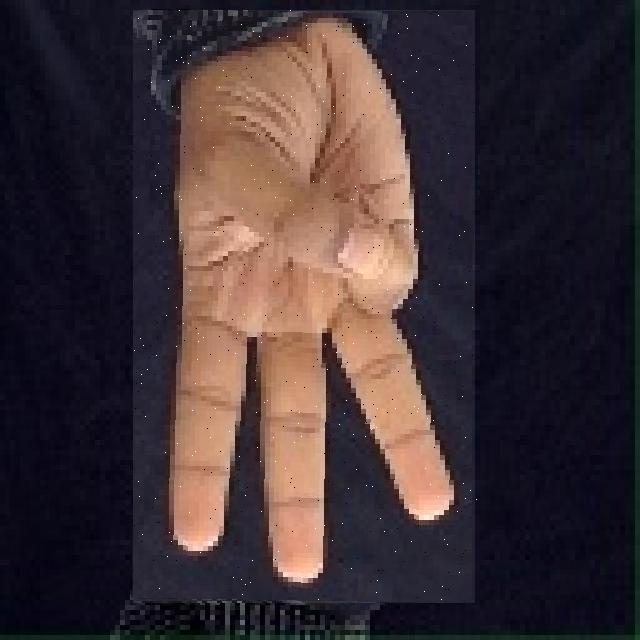Please: (134, 10, 478, 603)
